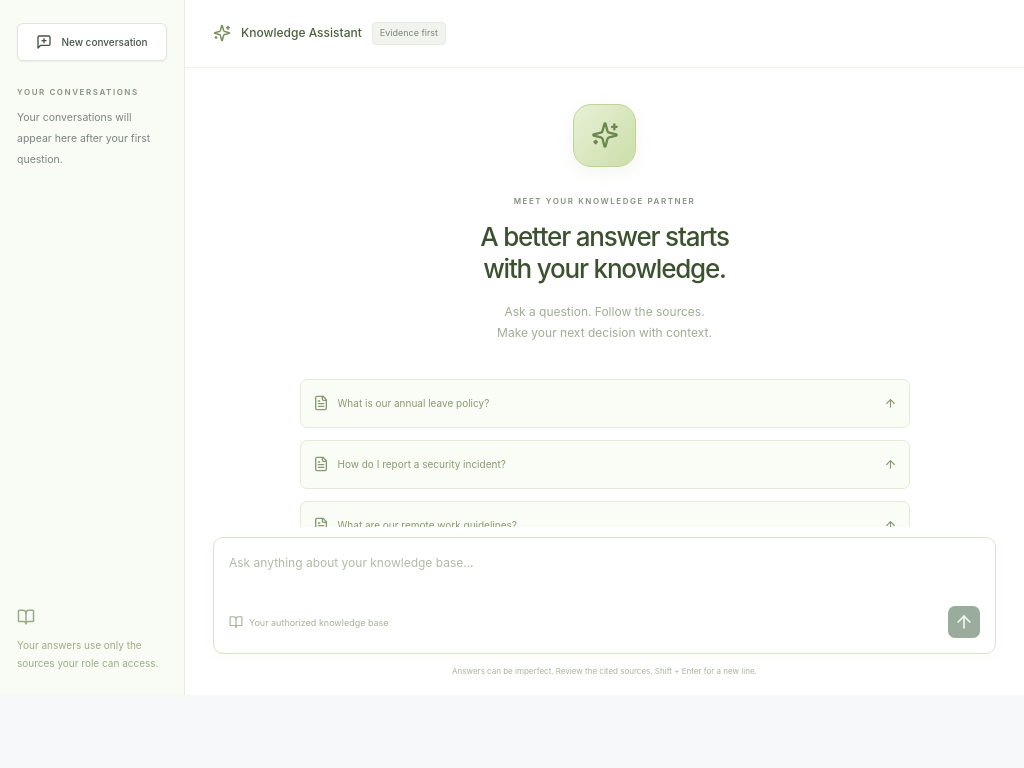
Test: never displays legacy draft events while waiting for the checked final answer
This screenshot has width=1024, height=768.
Step 1. Type "Hello" into the text box named "Ask your knowledge base" → coordinates (604, 573), box x1=229 y1=553 x2=980 y2=593
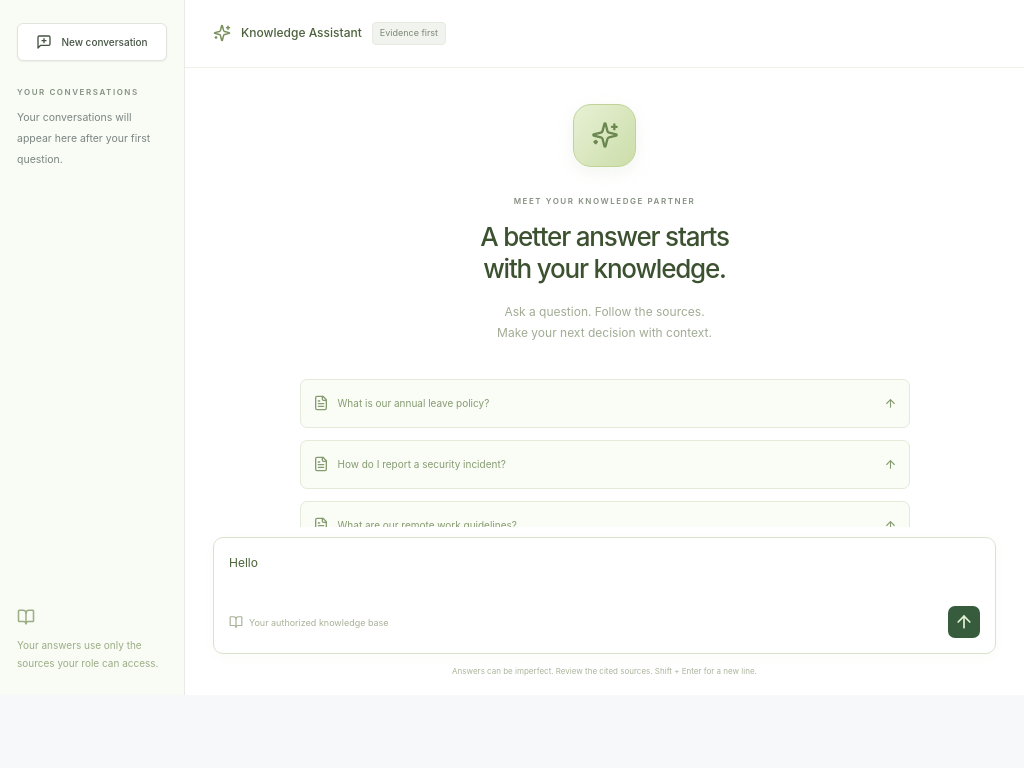
Step 2. Click the button named "Send question" → coordinates (964, 622), box x1=948 y1=606 x2=980 y2=638
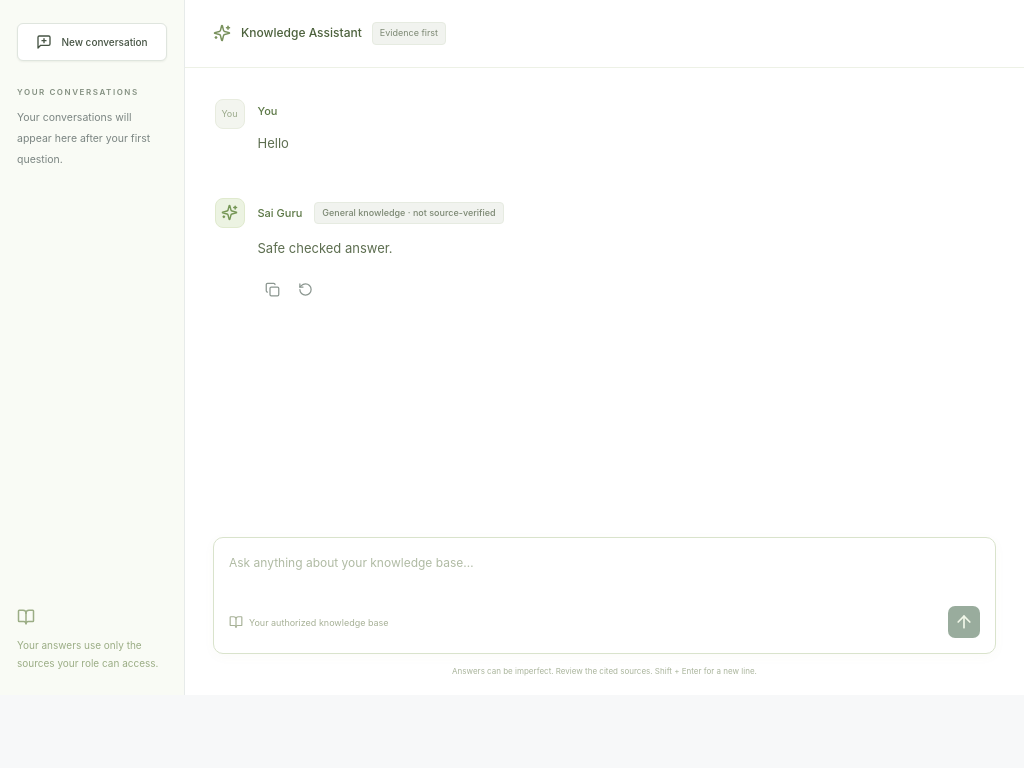
Expected: the text "Safe checked answer." is shown, x1=258 y1=240 x2=393 y2=256
